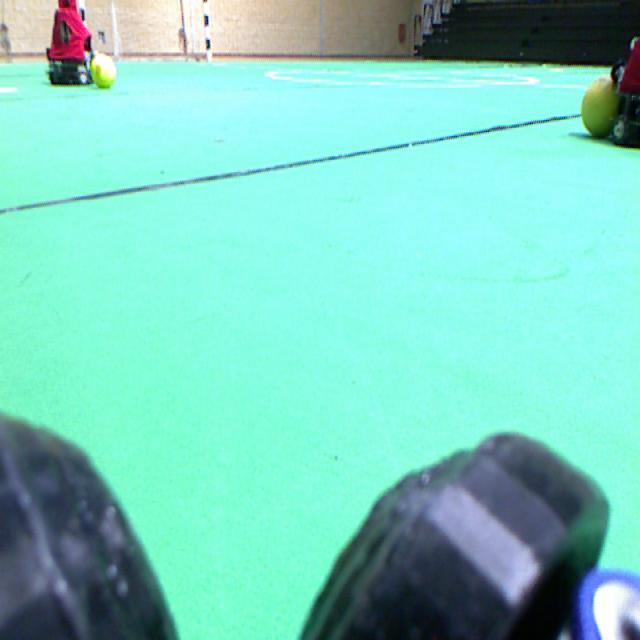ball: (581, 76, 618, 136), (90, 53, 116, 87)
